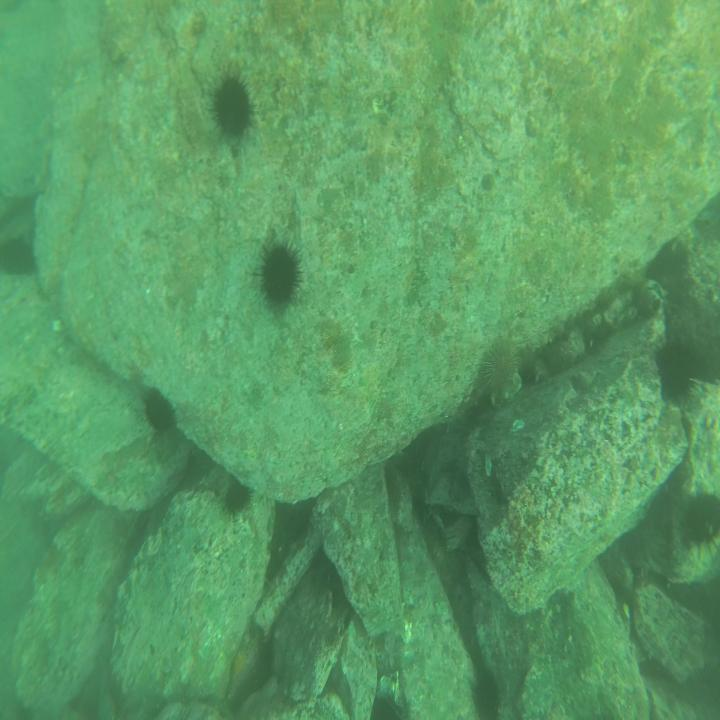echinus: (249, 239, 302, 307), (210, 67, 254, 147), (657, 344, 697, 406), (686, 490, 720, 556), (484, 337, 521, 397), (145, 388, 175, 432), (474, 672, 503, 716), (222, 485, 251, 517), (370, 698, 405, 720)
starfish: (228, 645, 260, 698)
